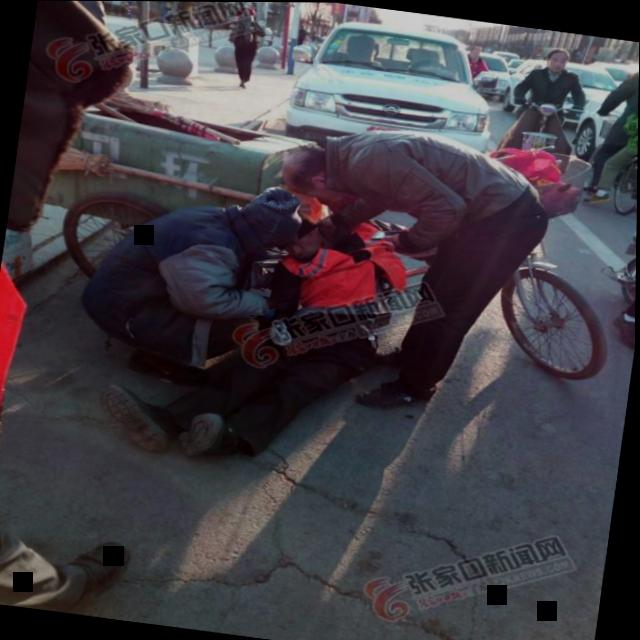Fall-Detected: (64, 195, 421, 484)
